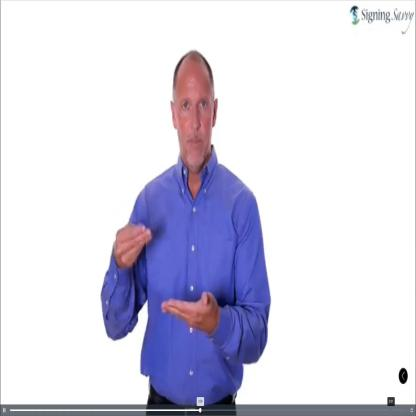Expensive: (104, 212, 222, 348)
